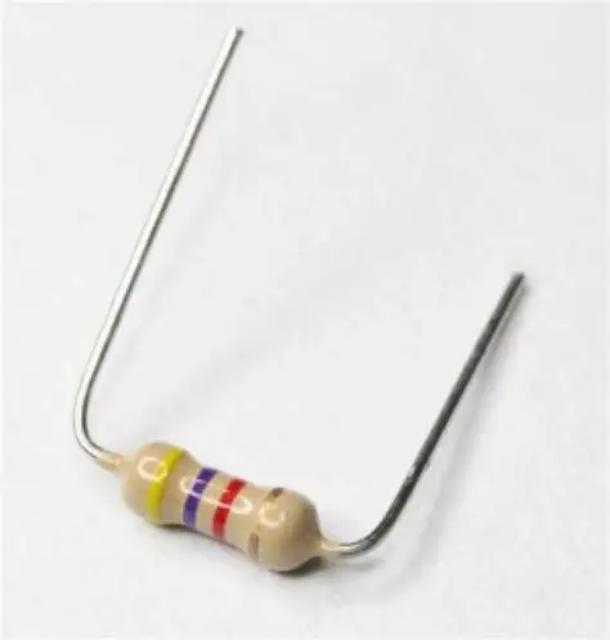gold: (248, 486, 286, 562)
red: (210, 476, 250, 543)
resistor: (86, 425, 345, 609)
violet: (183, 466, 220, 532)
yellow: (145, 444, 187, 524)
